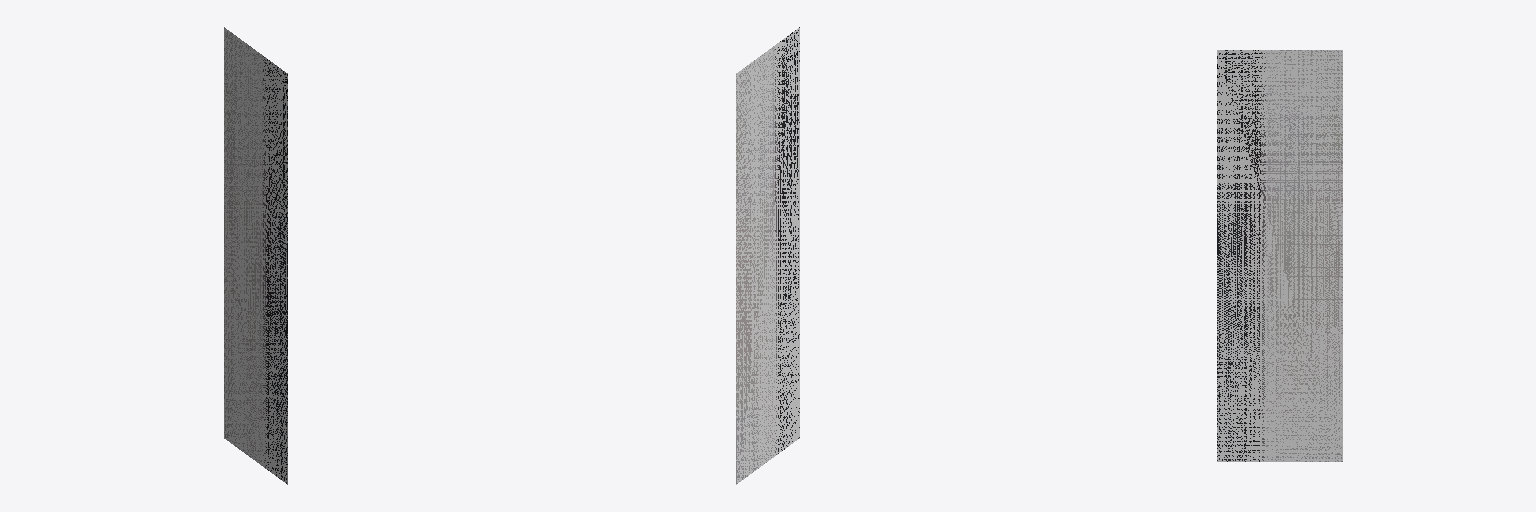
3 views of the same model, side by side, from view 1: azimuth 30°, elevation 25°; view 2: azimuth 150°, elevation 25°; view 3: azimuth 270°, elevation 25° (orthographic).
Parts seen in each view (by area): view 1: 3dw.5334cfe15f80099f15ac[number redacted]aee7/Model/mesh1/mesh1-geometry/; view 2: 3dw.5334cfe15f80099f15ac[number redacted]aee7/Model/mesh1/mesh1-geometry/; view 3: 3dw.5334cfe15f80099f15ac[number redacted]aee7/Model/mesh1/mesh1-geometry/.
Part boxes in pixels (left/top/right/bottom): 3dw.5334cfe15f80099f15ac[number redacted]aee7/Model/mesh1/mesh1-geometry/: left=224, top=27, right=287, bottom=484; 3dw.5334cfe15f80099f15ac[number redacted]aee7/Model/mesh1/mesh1-geometry/: left=736, top=27, right=799, bottom=484; 3dw.5334cfe15f80099f15ac[number redacted]aee7/Model/mesh1/mesh1-geometry/: left=1217, top=50, right=1342, bottom=461.
Bounding box in the file's own units: 0 × 0.8615 × 0.2406.
Materials: 2 (1 with a texture image).